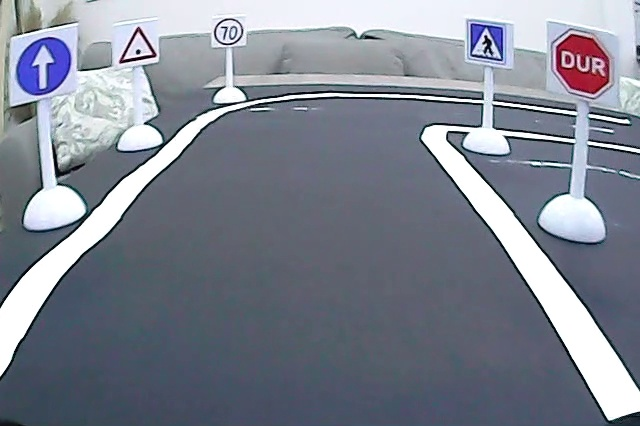green light: (115, 22, 158, 66)
pedestrian crossing: (467, 18, 508, 64)
speed limit 70: (214, 16, 245, 47)
stop sign: (549, 28, 616, 100)
